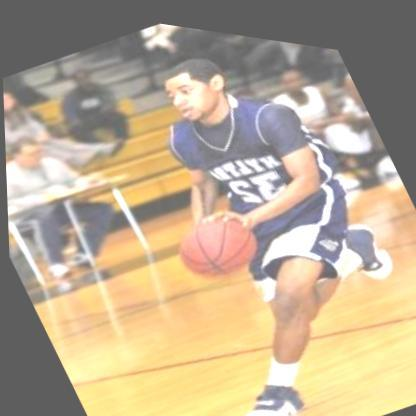basketball: (162, 189, 269, 294)
